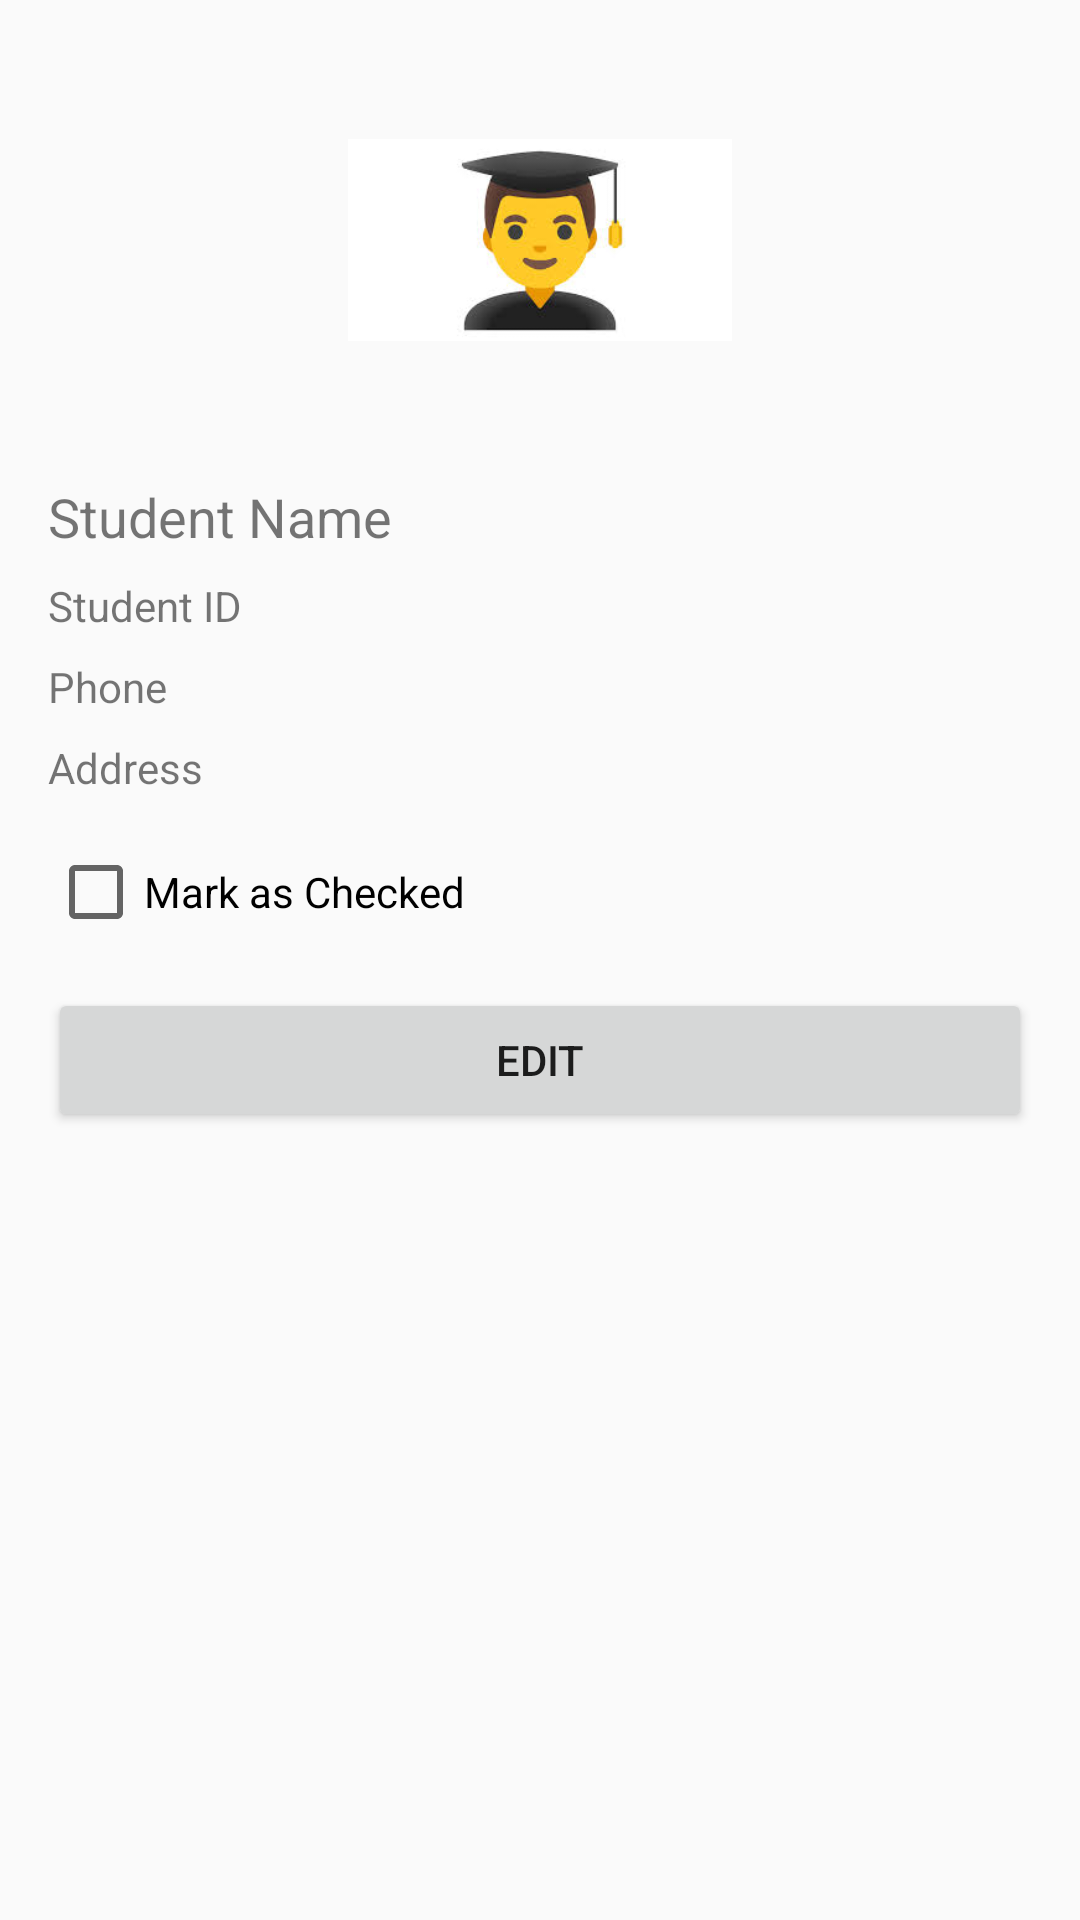

Point at icon controls on the screen. Image size 1080w x 1920h, points as (x,y).
student pic: (542,241)
